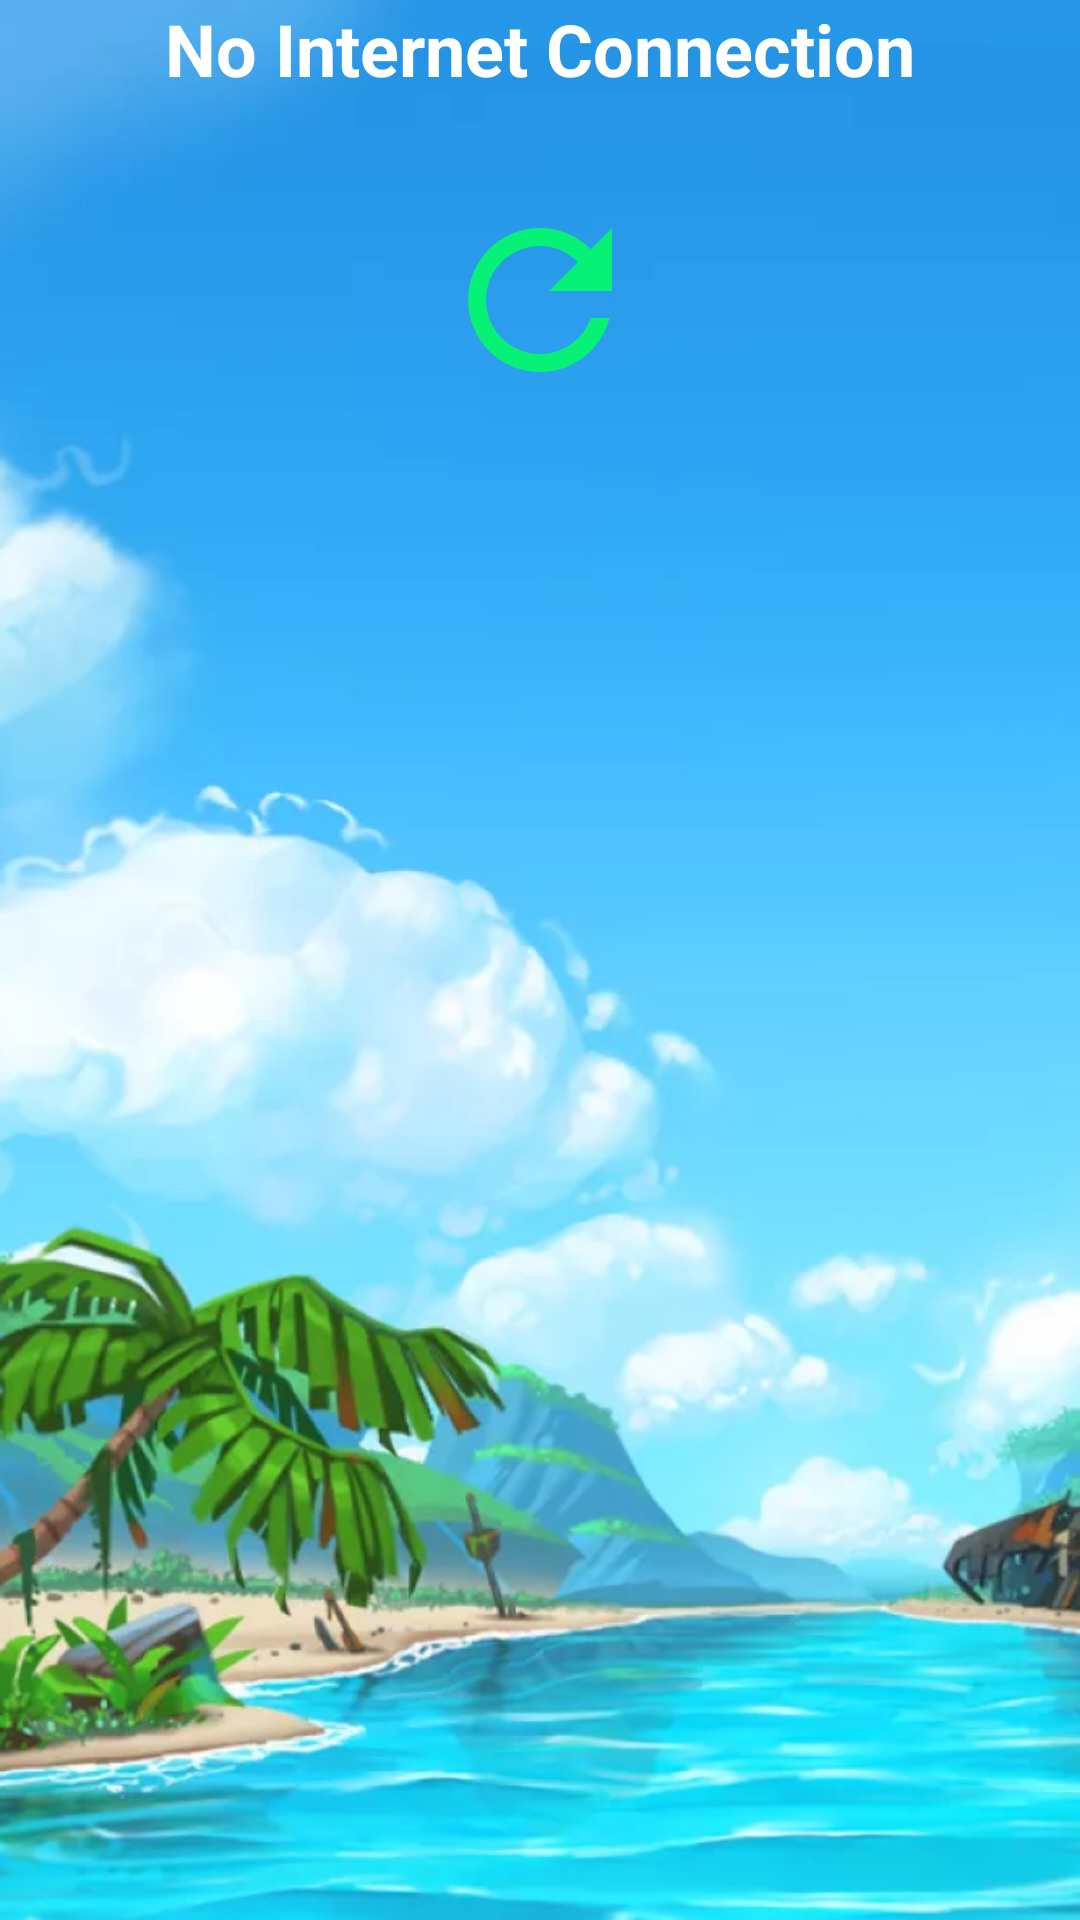

Where icons sit on this 1080x1920 app screen, as (x1, y1, x2, y2):
refresh: (468, 228, 612, 372)
